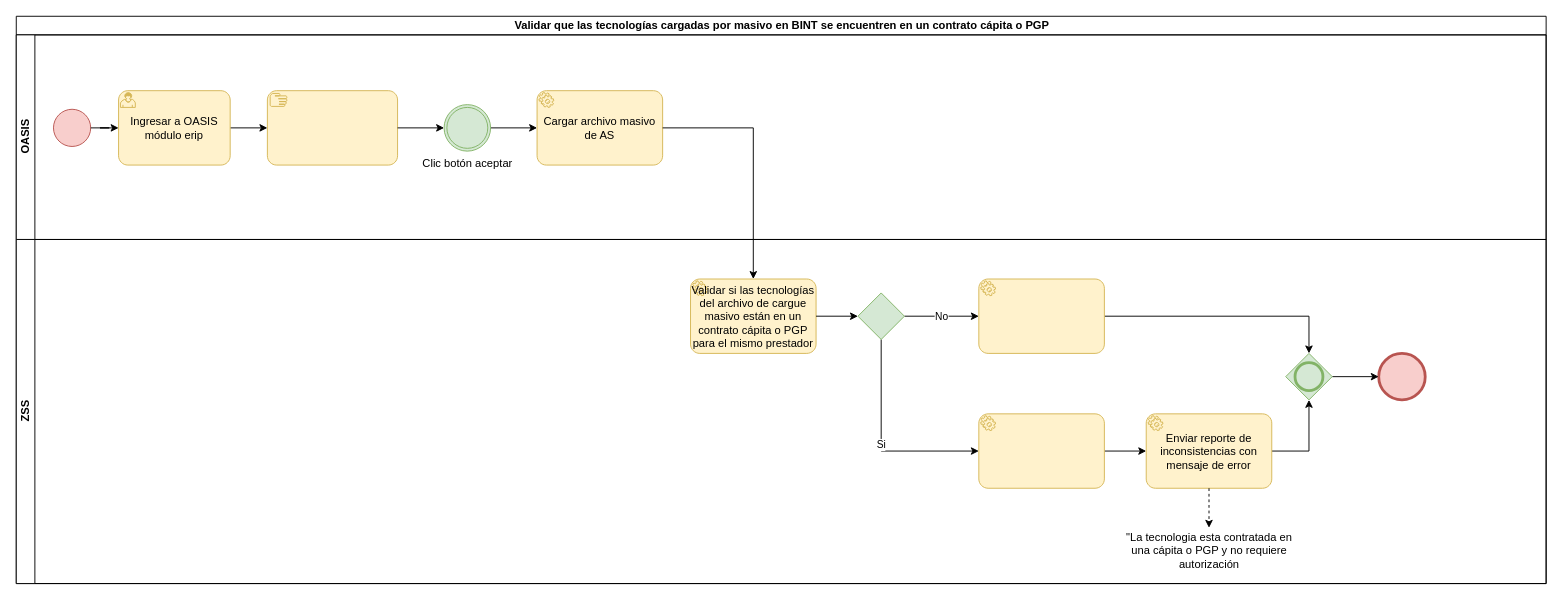
The diagram is 1562 pixels wide and 600 high, and some of its shapes have lost their labels. Each missing label, with the centre of its shape:
Crear A3 en ZSS de acuerdo con las validaciones existentes: (x=1041, y=315)
No crear A3 en ZSS: (x=1041, y=450)
Seleccionar opción solicitudes autorizaciones masivas: (x=332, y=127)
Tecnología en contrato cápita o PGP?: (x=880, y=315)
